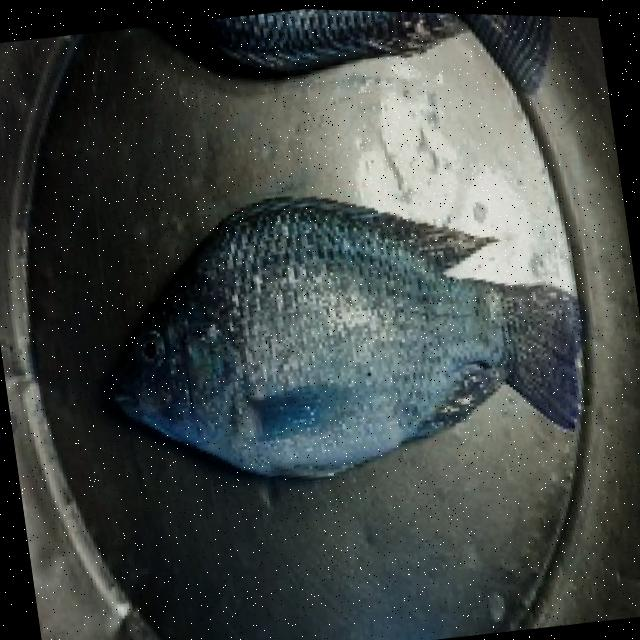Fresh: (82, 193, 514, 518)
